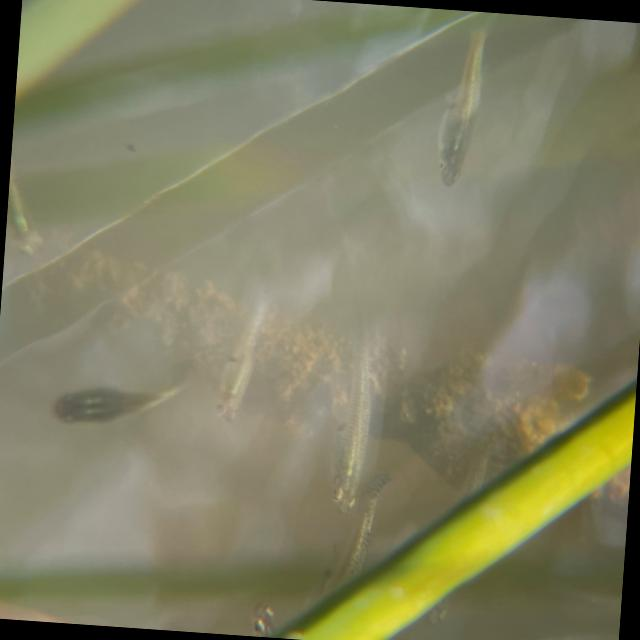Sivrisinek Baligi: (296, 305, 415, 526), (40, 337, 193, 445), (198, 277, 293, 439), (423, 14, 502, 200)
